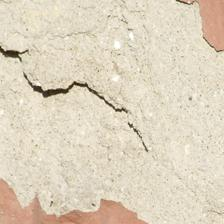Crack: (2, 23, 146, 132)
